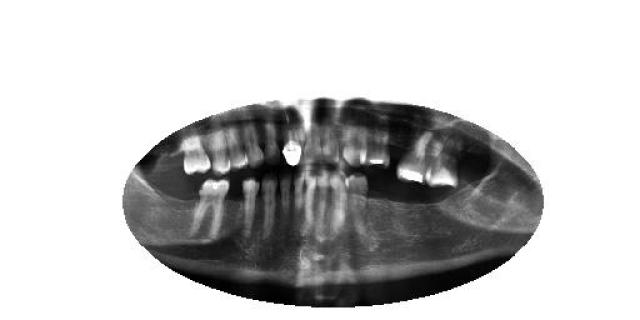Fillings: (190, 178, 231, 242), (396, 130, 435, 184), (428, 138, 462, 188)
Implant: (282, 106, 302, 166)
